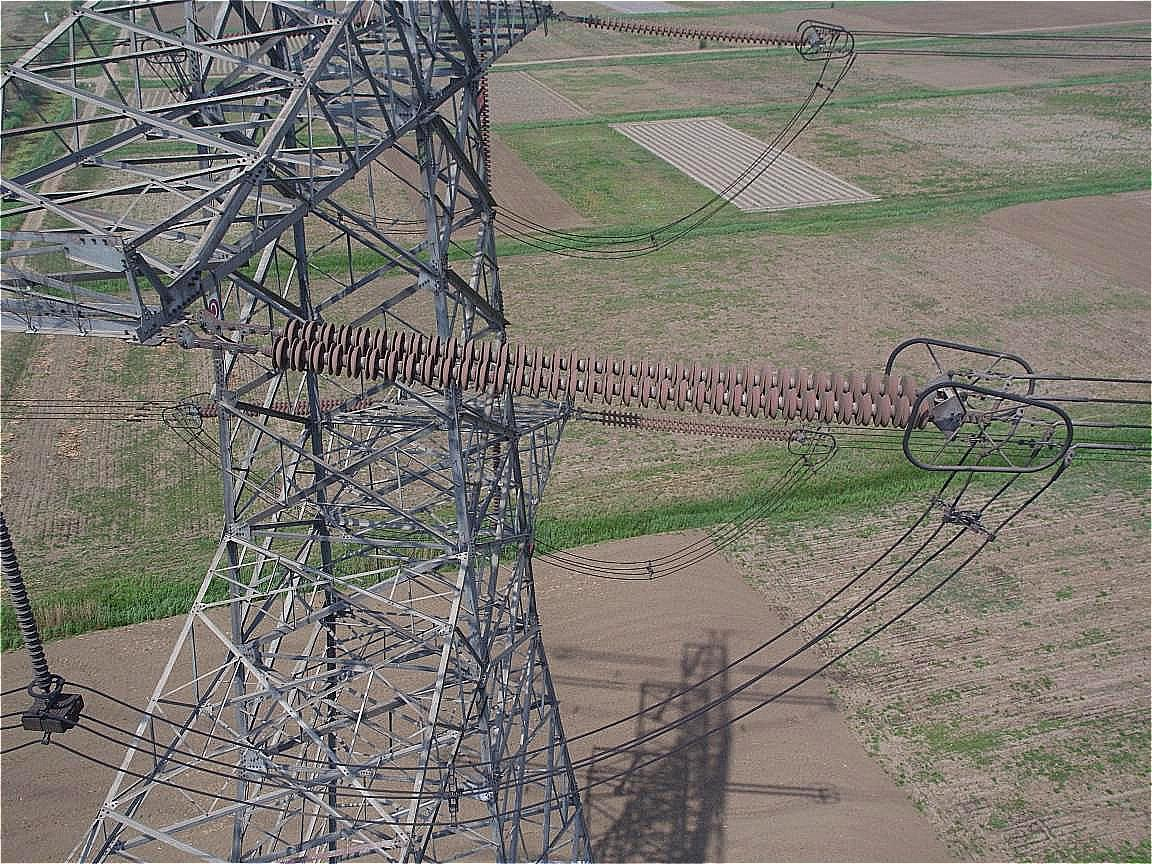insultor1: (579, 7, 822, 54), (591, 403, 800, 448)
insultor2: (258, 305, 956, 440)
